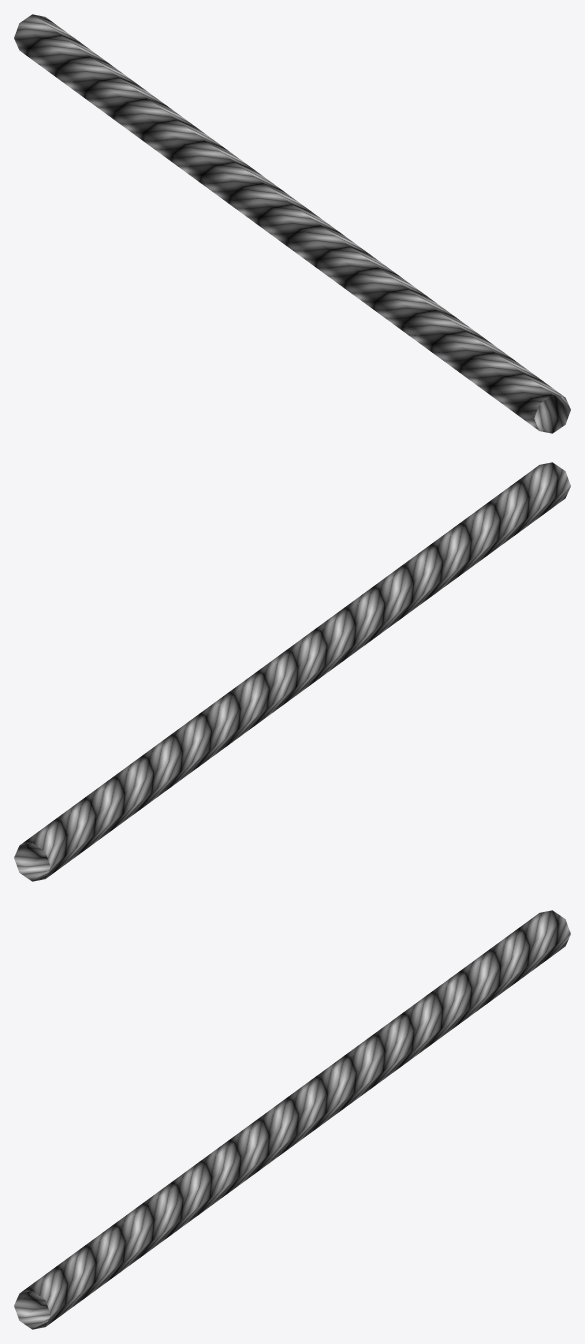
File: cable_001.fbx
The picture shows the model from 3 angles, top to bottom: view 1: azimuth 30°, elevation 25°; view 2: azimuth 150°, elevation 25°; view 3: azimuth 330°, elevation 25°; orthographic projection.
Parts seen in each view (by area): view 1: cable_001; view 2: cable_001; view 3: cable_001.
Boxes of the visible parts, x1,y1,x2,y2 form: cable_001: (14, 14, 570, 433); cable_001: (14, 462, 570, 881); cable_001: (14, 910, 570, 1329).
Size of the model in its own units: 81.83 by 2000 by 81.84.
